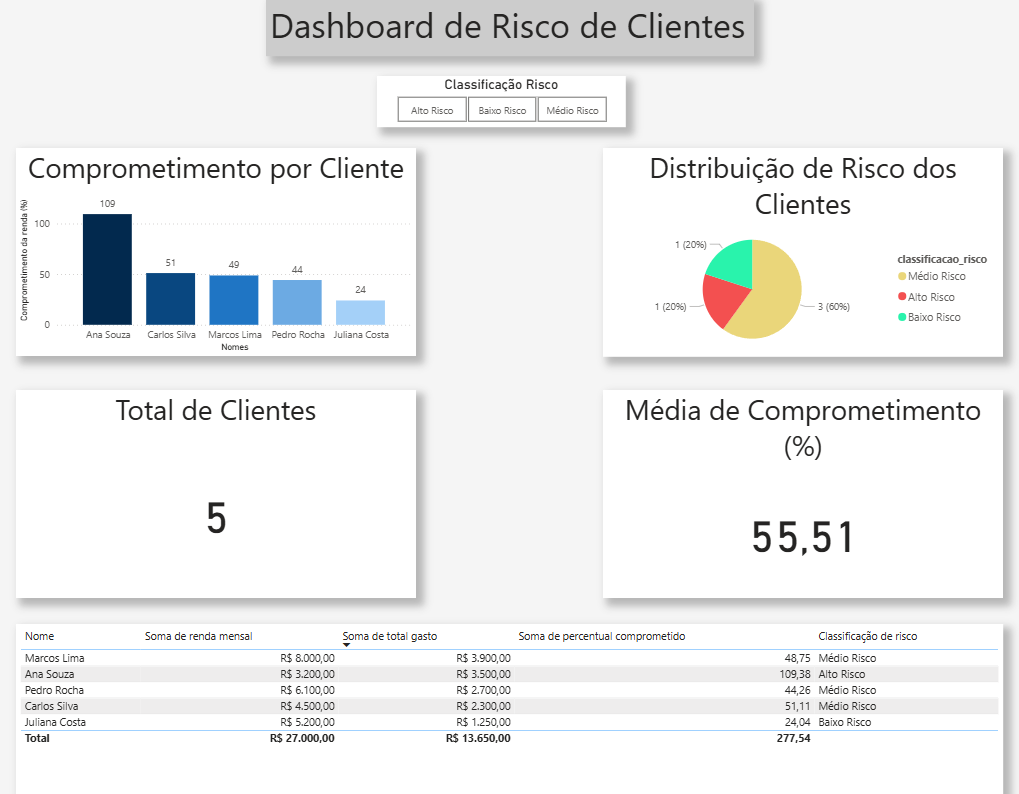

The page's visual inventory and layout, read from the dashboard file:
{"tool":"powerbi","page":{"name":"Página 1","canvas":[1280,1100],"ordinal":0},"visuals":[{"type":"clusteredColumnChart","title":"Comprometimento por Cliente","fields":{"Category":["public vw_analise_risco.nome"],"Y":["Avg(public vw_analise_risco.percentual_comprometido)"]},"box":[22.2,188.9,500,260],"z":0},{"type":"pieChart","title":"Distribuição de Risco dos Clientes","fields":{"Category":["public vw_analise_risco.classificacao_risco"],"Y":["CountNonNull(public vw_analise_risco.nome)"]},"box":[756.7,188.9,500,261.1],"z":1000},{"type":"card","title":"Total de Clientes","fields":{"Values":["CountNonNull(public vw_analise_risco.nome)"]},"box":[22.2,491.1,500,260],"z":2000},{"type":"card","title":"Média de Comprometimento (%)","fields":{"Values":["Avg(public vw_analise_risco.percentual_comprometido)"]},"box":[756.7,491.1,500,260],"z":3000},{"type":"textbox","box":[335,0,610,73.8],"z":4000},{"type":"slicer","title":"Classificação Risco","fields":{"Values":["public vw_analise_risco.classificacao_risco"]},"box":[473.3,98.9,311.1,64.4],"z":4001},{"type":"tableEx","fields":{"Values":["public vw_analise_risco.nome","Sum(public vw_analise_risco.renda_mensal)","Sum(public vw_analise_risco.total_gasto)","Sum(public vw_analise_risco.percentual_comprometido)","public vw_analise_risco.classificacao_risco"]},"box":[22.2,783.3,1234.4,296.7],"z":4002}]}

Visuals, with their boxes on the page's 1280x1100 design canvas (x1, y1, x2, y2). These are canvas units, not pixel positions in the 1019x794 screenshot, which may show the page scaled, cropped or inside an application window:
"Comprometimento por Cliente" clusteredColumnChart: x1=22 y1=189 x2=522 y2=449
"Distribuição de Risco dos Clientes" pieChart: x1=757 y1=189 x2=1257 y2=450
"Total de Clientes" card: x1=22 y1=491 x2=522 y2=751
"Média de Comprometimento (%)" card: x1=757 y1=491 x2=1257 y2=751
textbox: x1=335 y1=0 x2=945 y2=74
"Classificação Risco" slicer: x1=473 y1=99 x2=784 y2=163
tableEx - public vw_analise_risco.nome x Sum(public vw_analise_risco.renda_mensal): x1=22 y1=783 x2=1257 y2=1080
